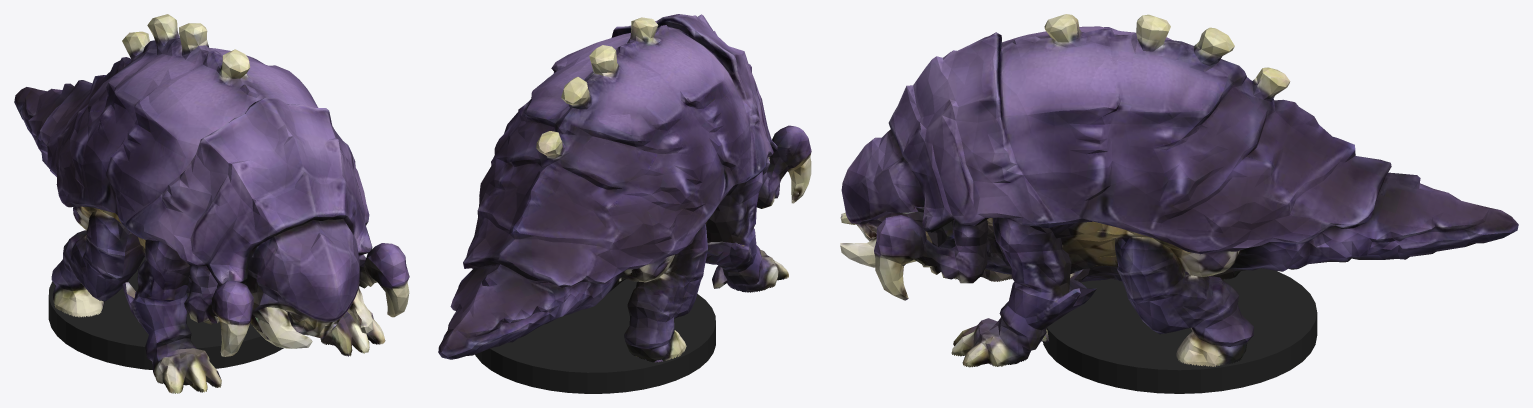
The model's file is roachling.glb.
The picture shows the model from 3 angles, left to right: view 1: azimuth 30°, elevation 25°; view 2: azimuth 150°, elevation 25°; view 3: azimuth 270°, elevation 25°; orthographic projection. The views are drawn at different scales.
Visible parts, largest first — view 1: figure, base; view 2: figure, base; view 3: figure, base.
Part boxes in pixels (bbox=[...]): figure: bbox=[14, 14, 409, 393]; base: bbox=[48, 257, 283, 369]; figure: bbox=[438, 14, 811, 362]; base: bbox=[475, 279, 715, 393]; figure: bbox=[840, 14, 1518, 367]; base: bbox=[1043, 268, 1317, 393].
Bounding box in the file's own units: 1.27 × 1.62 × 3.1.
2 materials, 1 textured.
